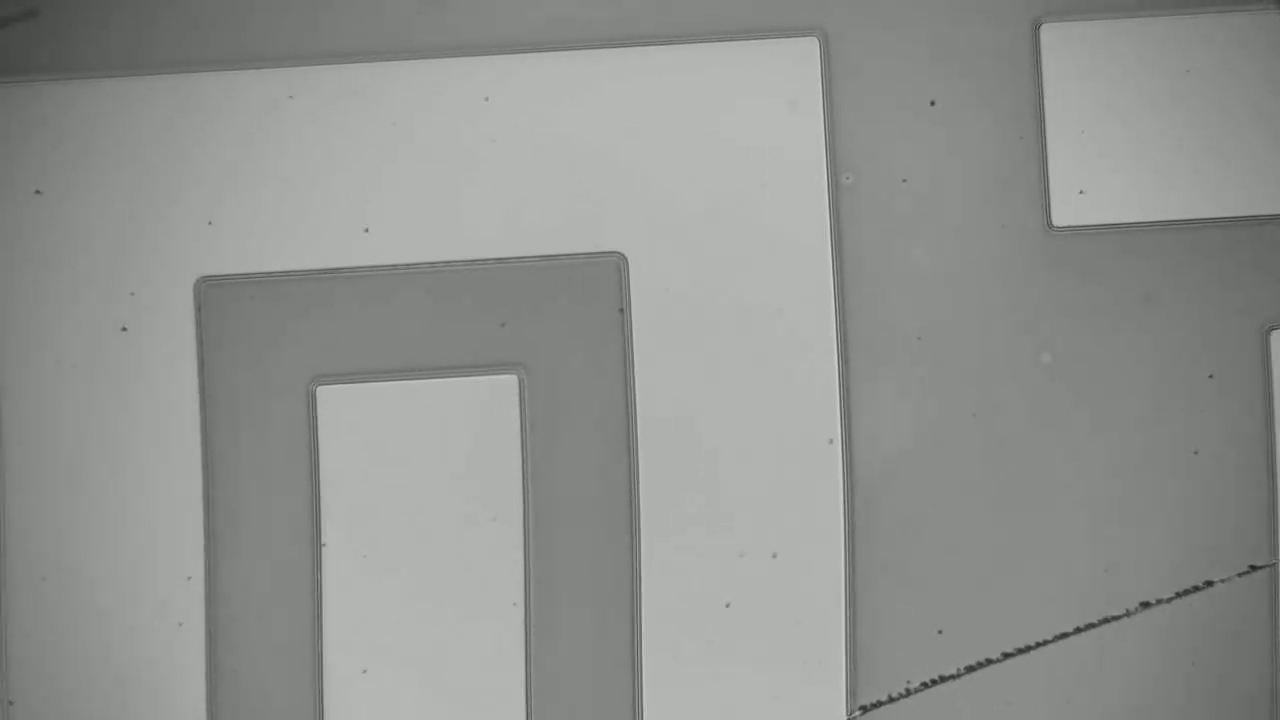scratch: (860, 564, 1265, 713)
